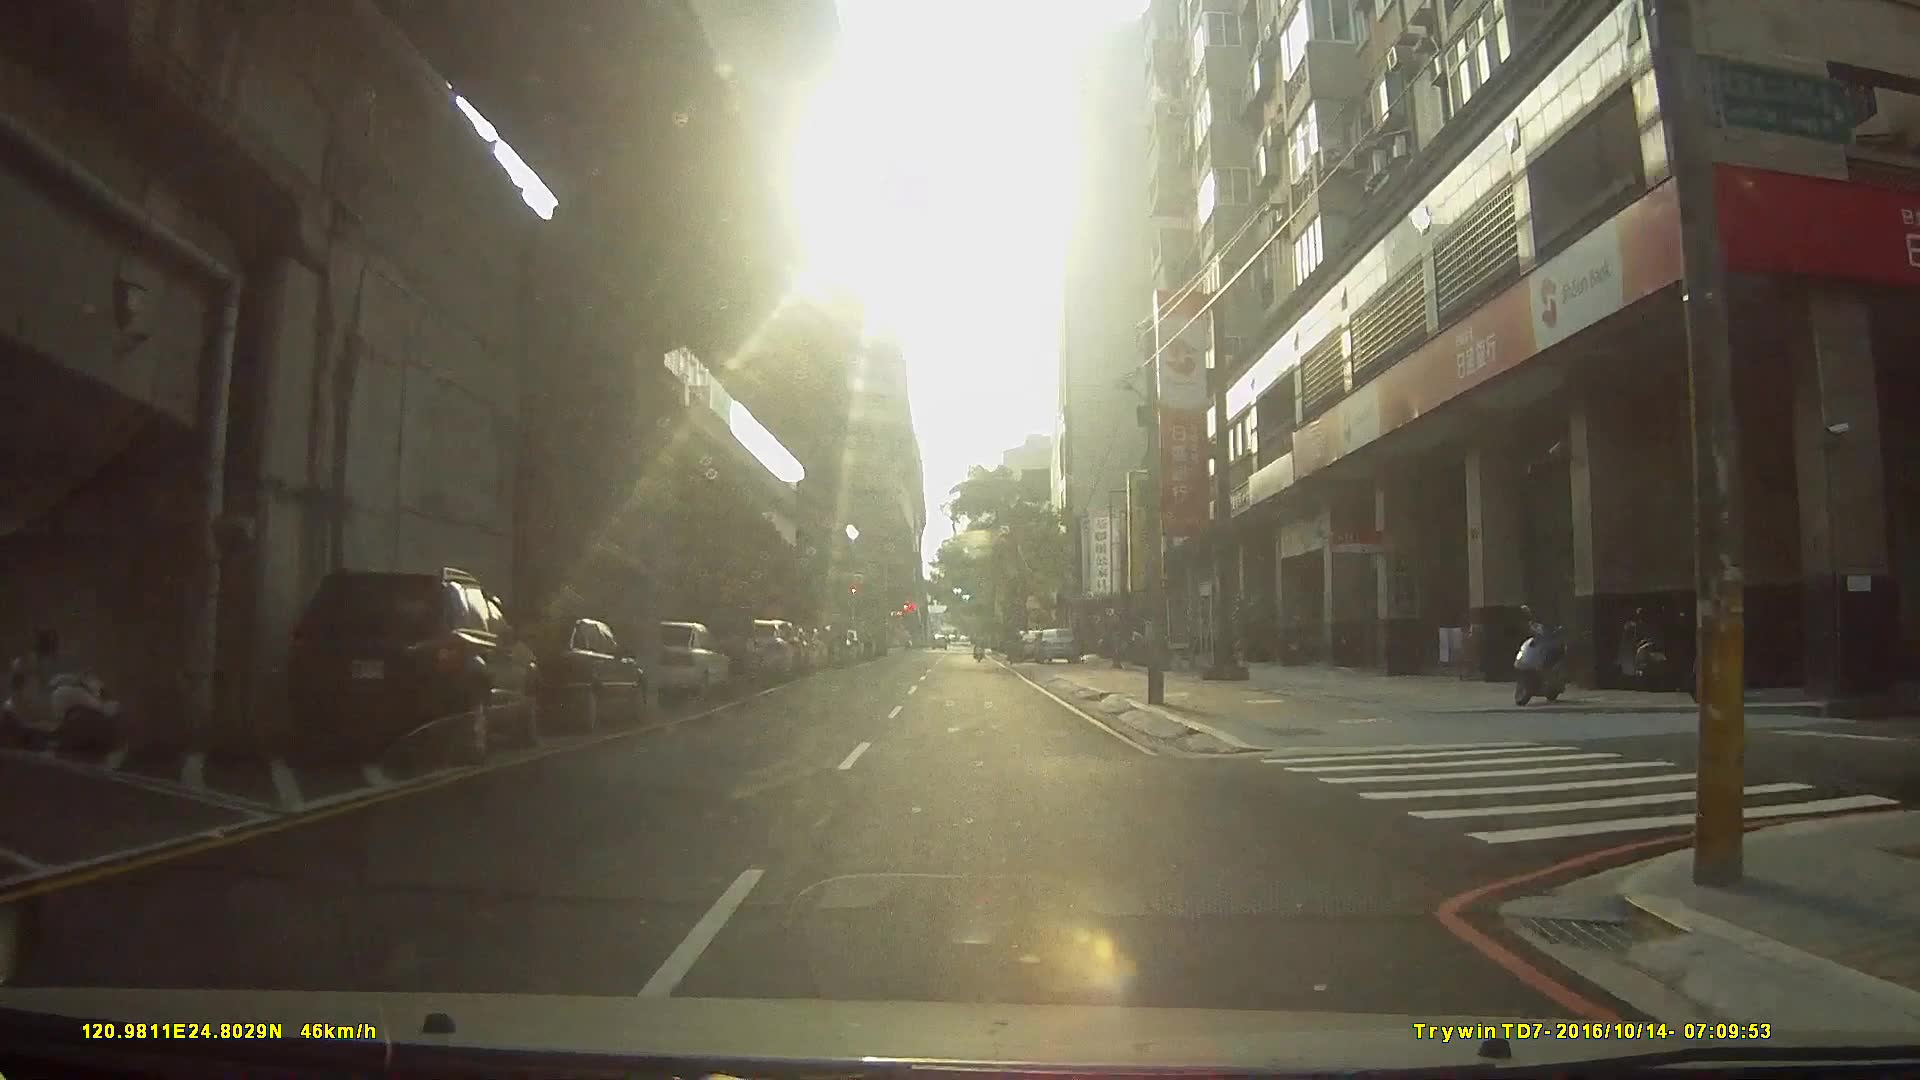vehicle: (287, 567, 543, 764), (465, 611, 647, 736), (628, 617, 733, 709), (659, 620, 794, 670), (1030, 622, 1081, 661)
